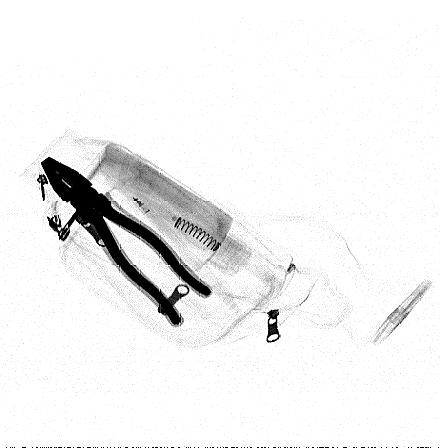Pliers: (40, 156, 213, 326)
